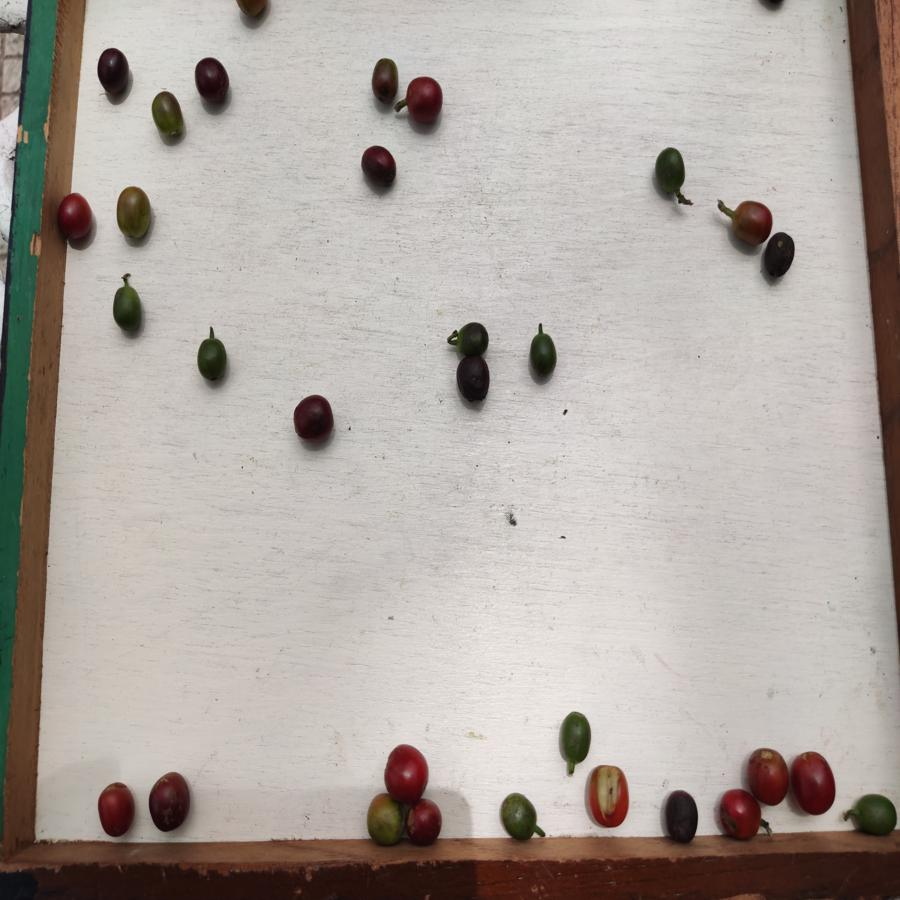Inmaduro: (853, 792, 898, 837), (559, 709, 594, 766), (500, 792, 541, 839), (193, 336, 230, 385), (653, 144, 685, 200), (110, 283, 142, 331), (530, 330, 557, 382)
Maduro: (792, 749, 841, 816), (588, 767, 633, 825), (384, 744, 429, 800), (92, 782, 137, 837), (747, 748, 789, 805), (720, 787, 763, 838), (57, 192, 95, 241)
Pinton: (115, 188, 155, 241), (729, 199, 774, 245), (148, 90, 187, 142), (366, 796, 404, 844)
Sobremaduro: (150, 771, 193, 831), (292, 395, 335, 444), (193, 55, 233, 104), (358, 144, 399, 191), (95, 48, 133, 98), (664, 792, 700, 841), (455, 355, 493, 401), (407, 77, 444, 123), (762, 231, 797, 279), (405, 799, 444, 842), (369, 55, 400, 103)
